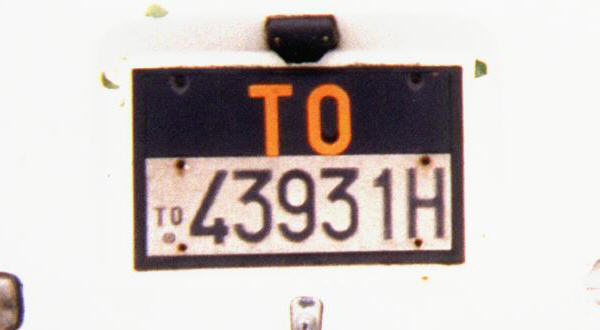license_plate: (130, 65, 465, 267)
